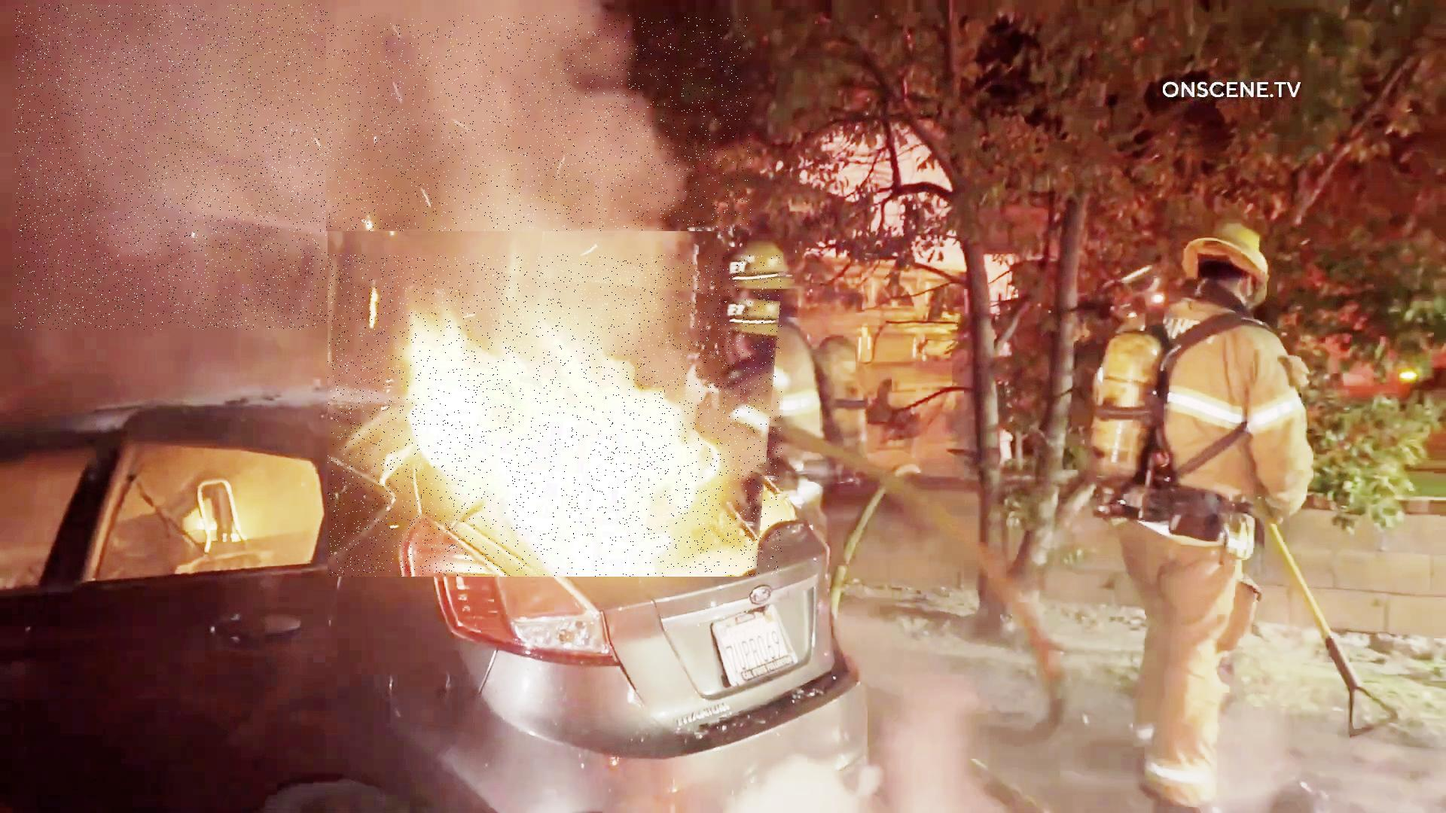fire: (328, 255, 782, 577)
smoke: (15, 4, 328, 330), (326, 15, 751, 231)
